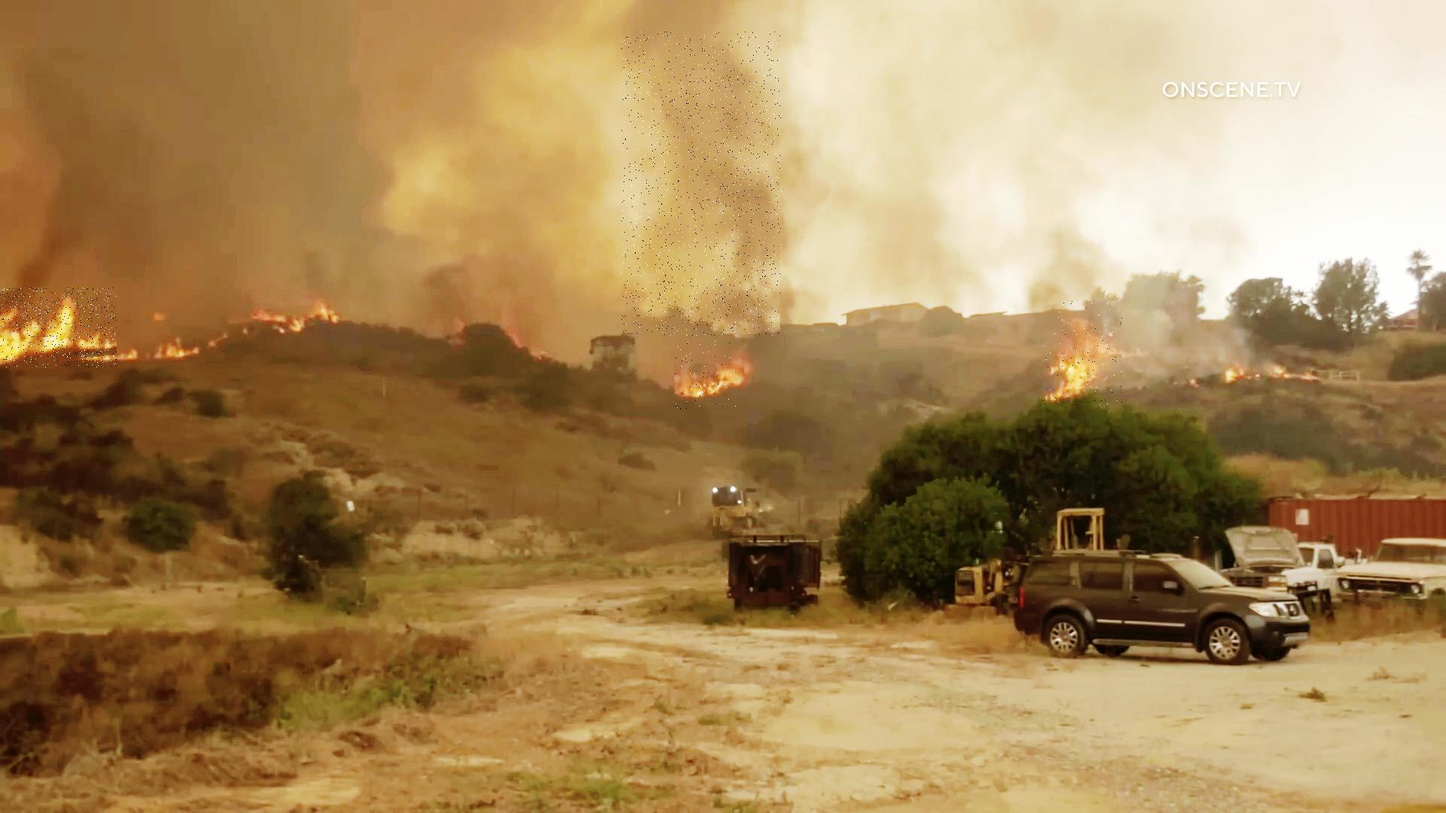fire: (0, 288, 117, 367), (1044, 301, 1124, 405), (675, 341, 737, 411)
smoke: (622, 32, 782, 336)
